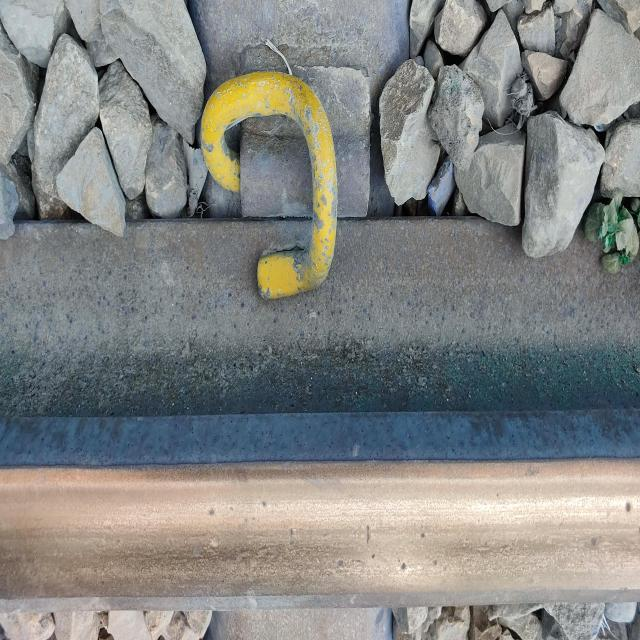Good Fasteners: (183, 35, 414, 346)
